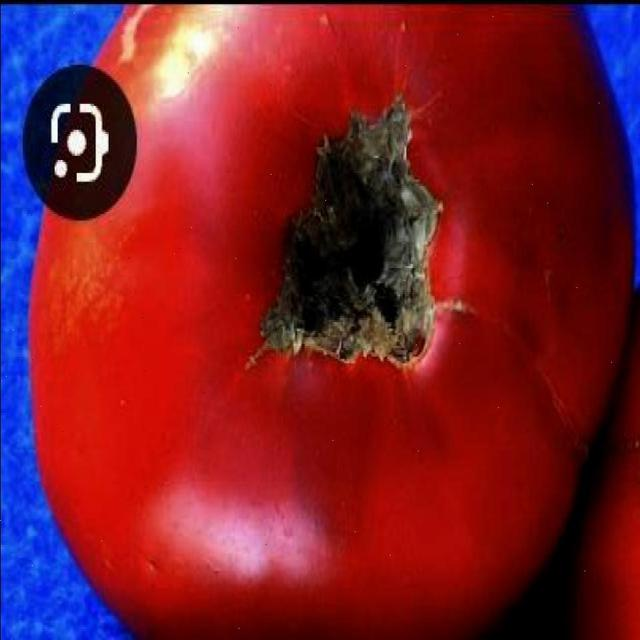Blossom End Rot Fruit: (171, 61, 300, 246)
